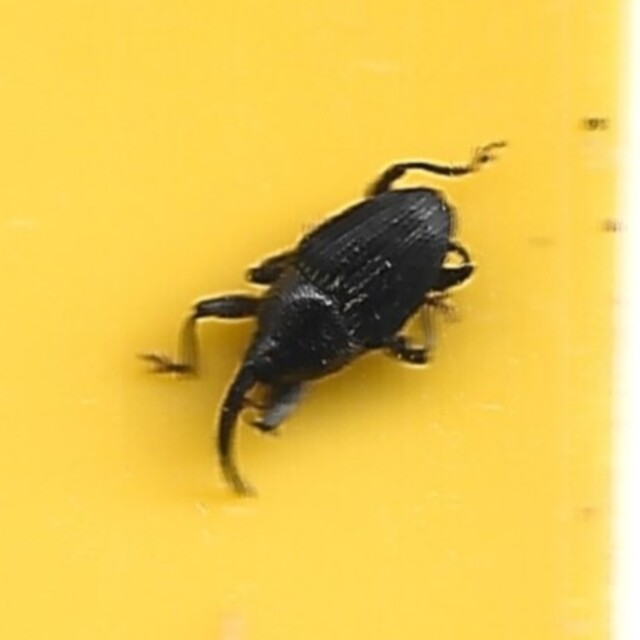Coleoptera: (143, 148, 497, 492)
